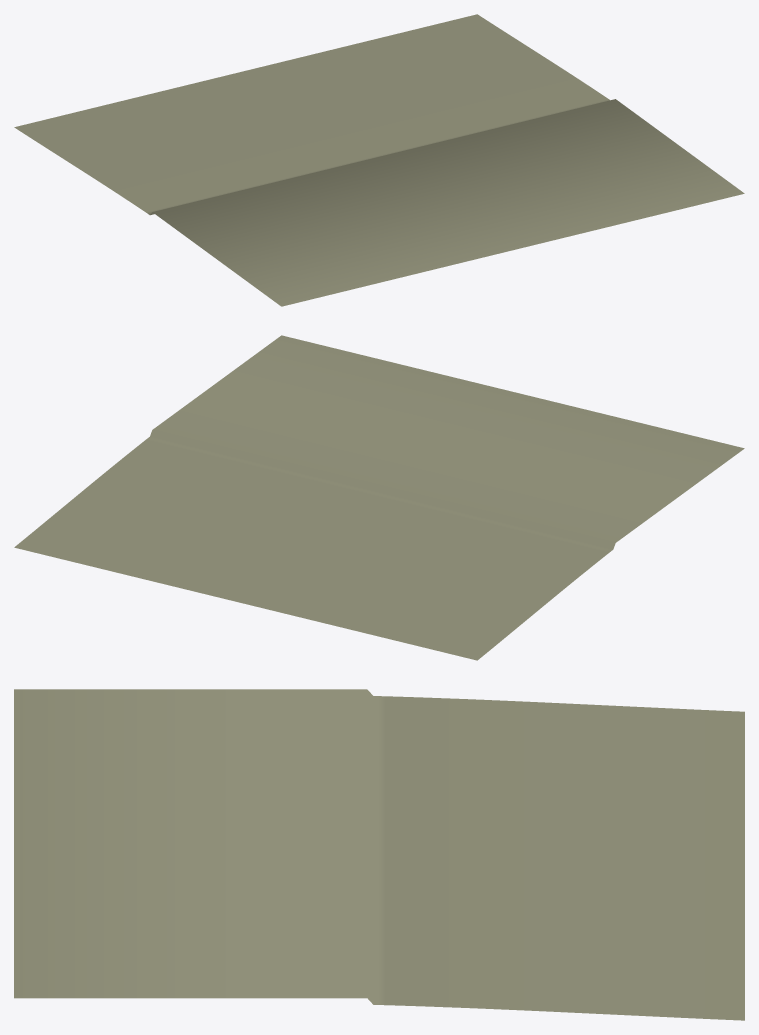
Rendered from SM_VB_CityTerrain_1_2.fbx.
3 renders of one model, top to bottom at view 1: azimuth 30°, elevation 25°; view 2: azimuth 150°, elevation 25°; view 3: azimuth 270°, elevation 25°, orthographic. The views are drawn at different scales.
Visible parts, largest first — view 1: SM_VB_CityTerrain_1_2; view 2: SM_VB_CityTerrain_1_2; view 3: SM_VB_CityTerrain_1_2.
Boxes of the visible parts, x1,y1,x2,y2 form: SM_VB_CityTerrain_1_2: [14, 14, 744, 306]; SM_VB_CityTerrain_1_2: [14, 335, 744, 660]; SM_VB_CityTerrain_1_2: [14, 689, 744, 1020].
Size of the model in its own units: 600 by 20.29 by 600.
